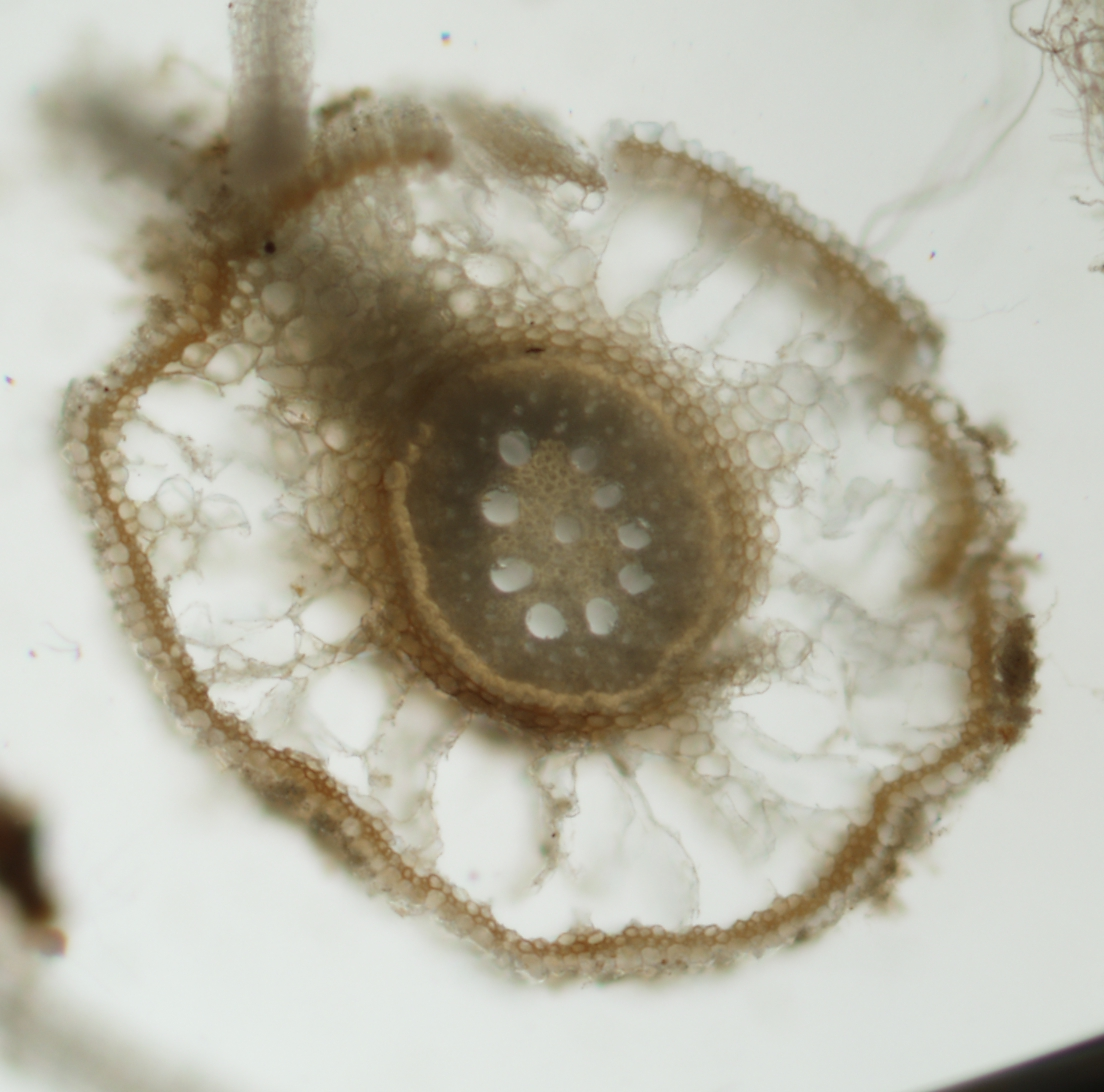lm: (336, 592, 426, 663), (407, 685, 493, 757), (316, 455, 397, 529), (351, 340, 422, 416), (498, 358, 566, 431), (528, 671, 593, 746), (586, 517, 662, 579), (591, 607, 663, 671), (460, 508, 524, 573), (539, 445, 605, 498)
